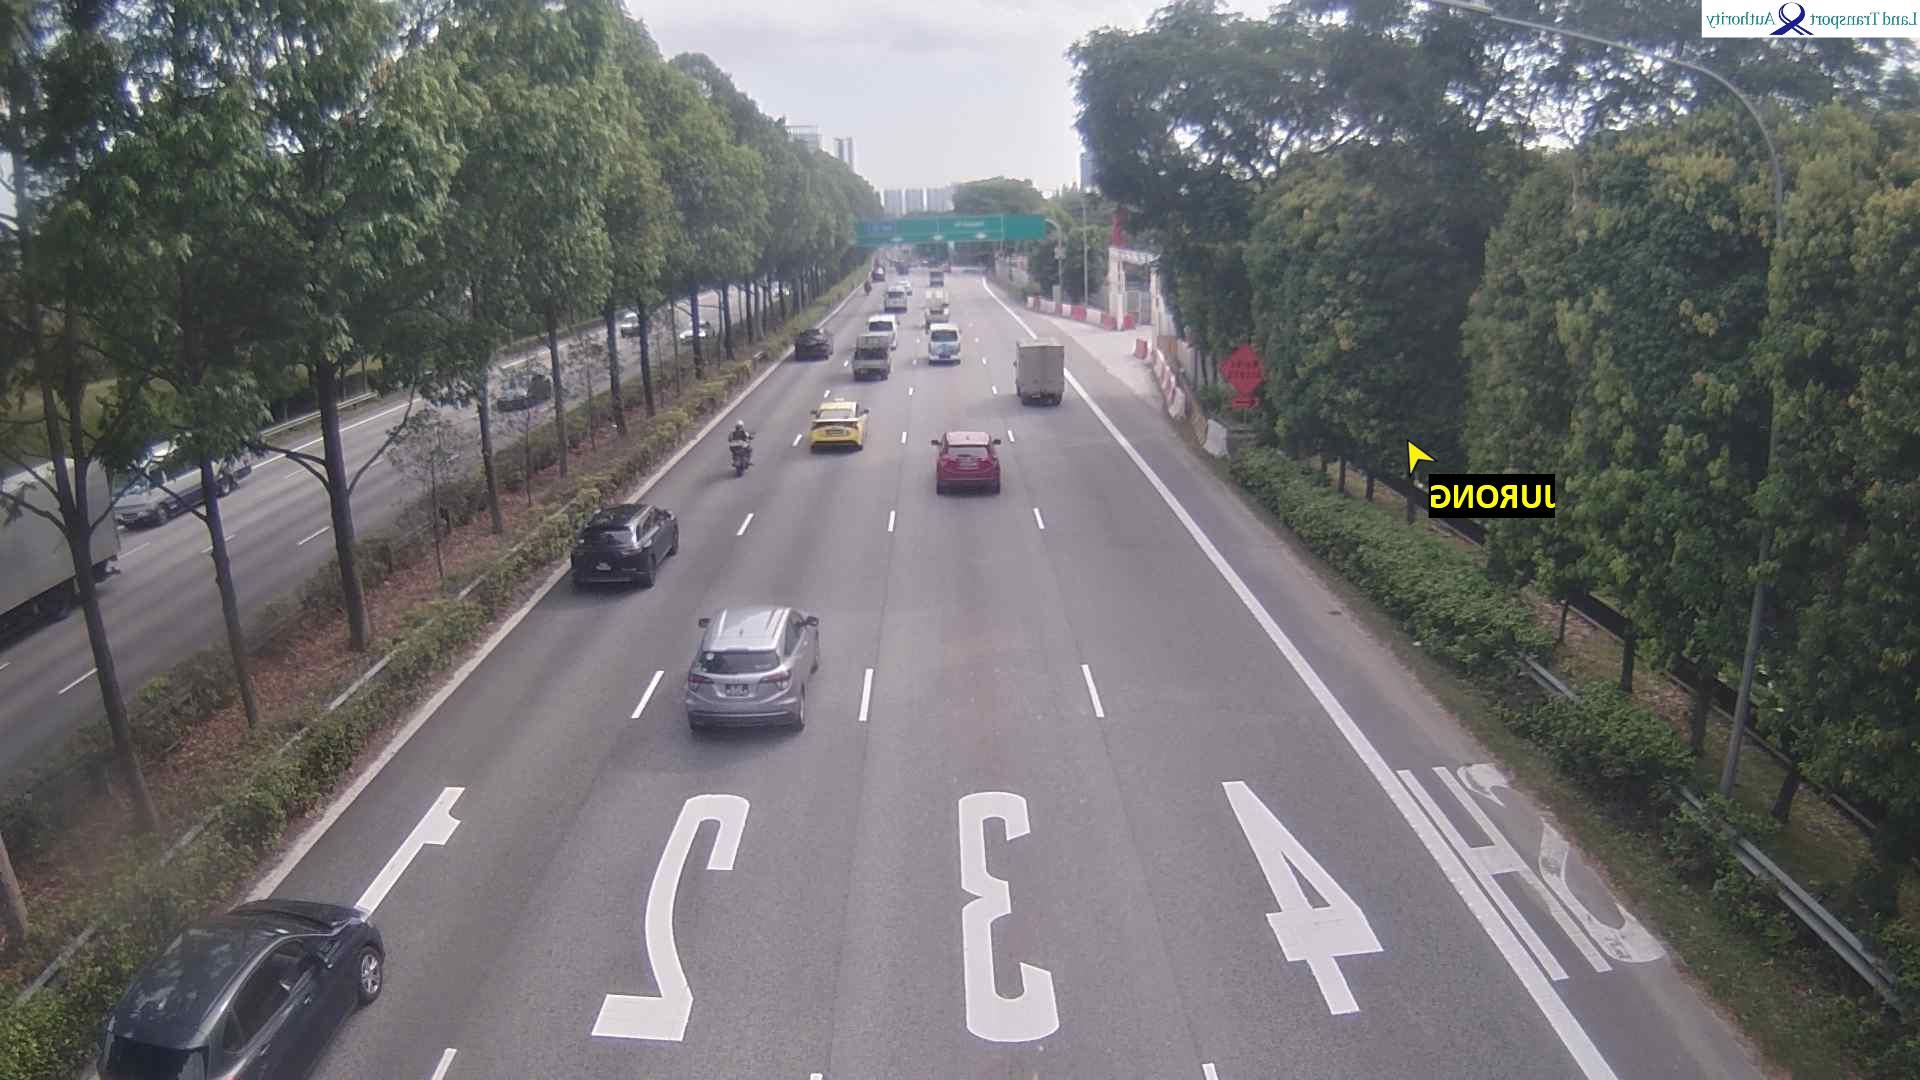bus: (113, 435, 253, 527)
cars: (98, 895, 388, 1077), (684, 603, 822, 732), (570, 500, 680, 589), (932, 429, 1004, 495), (808, 396, 872, 451), (497, 371, 549, 410), (425, 373, 476, 407), (928, 322, 963, 363), (795, 326, 833, 360), (868, 313, 899, 349), (924, 287, 951, 320), (680, 319, 713, 342), (884, 285, 909, 311), (618, 309, 642, 336), (891, 277, 914, 295), (930, 268, 945, 286), (895, 255, 911, 273), (873, 264, 887, 281)
motorcycle: (729, 433, 756, 477)
trucks: (3, 451, 123, 628), (1015, 338, 1065, 405), (851, 335, 891, 381)
